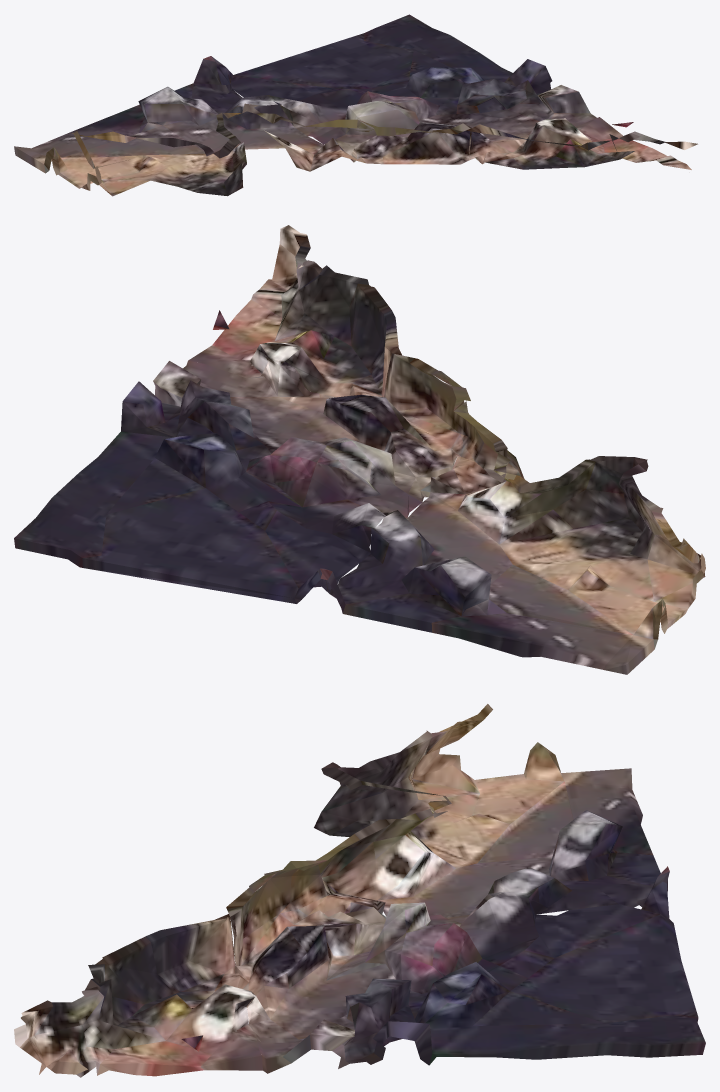
3 renders of one model, top to bottom at view 1: azimuth 30°, elevation 25°; view 2: azimuth 150°, elevation 25°; view 3: azimuth 270°, elevation 25°, orthographic. The views are drawn at different scales.
Parts seen in each view (by area): view 1: Mesh_0; view 2: Mesh_0; view 3: Mesh_0.
Boxes of the visible parts, left/top/right/bottom form: Mesh_0: left=14, top=14, right=697, bottom=196; Mesh_0: left=14, top=225, right=705, bottom=674; Mesh_0: left=14, top=704, right=705, bottom=1077.
Size of the model in its own units: 32.33 by 4.08 by 29.44.
1 material, 1 textured.
